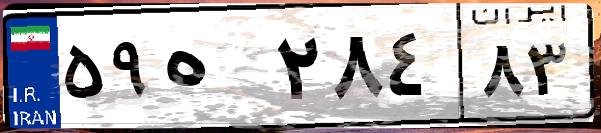2: (270, 28, 330, 110)
3: (525, 38, 570, 115)
4: (385, 28, 445, 110)
5: (57, 26, 110, 100)
8: (330, 28, 385, 110), (475, 38, 525, 113)
9: (110, 28, 158, 98)
ه: (158, 20, 270, 120)
